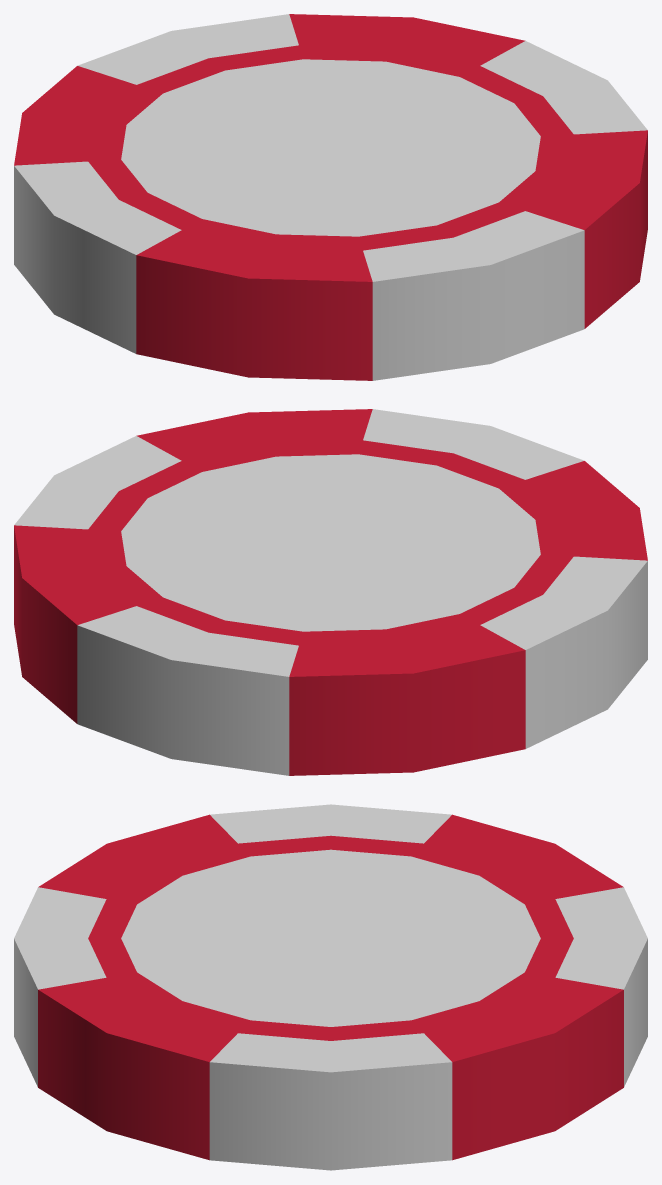
The model's file is rose_chips.glb.
3 views of the same model, one above another, from view 1: azimuth 30°, elevation 25°; view 2: azimuth 150°, elevation 25°; view 3: azimuth 270°, elevation 25° (orthographic).
Visible parts, largest first — view 1: Cylinder, Cylinder_Mat_0.001; view 2: Cylinder, Cylinder_Mat_0.001; view 3: Cylinder, Cylinder_Mat_0.001.
Boxes of the visible parts, left/top/right/bottom form: Cylinder: left=14, top=14, right=647, bottom=380; Cylinder_Mat_0.001: left=14, top=14, right=647, bottom=380; Cylinder: left=14, top=409, right=647, bottom=775; Cylinder_Mat_0.001: left=14, top=409, right=647, bottom=775; Cylinder: left=14, top=804, right=647, bottom=1170; Cylinder_Mat_0.001: left=38, top=814, right=623, bottom=1160.
Size of the model in its own units: 100 by 17.08 by 100.
